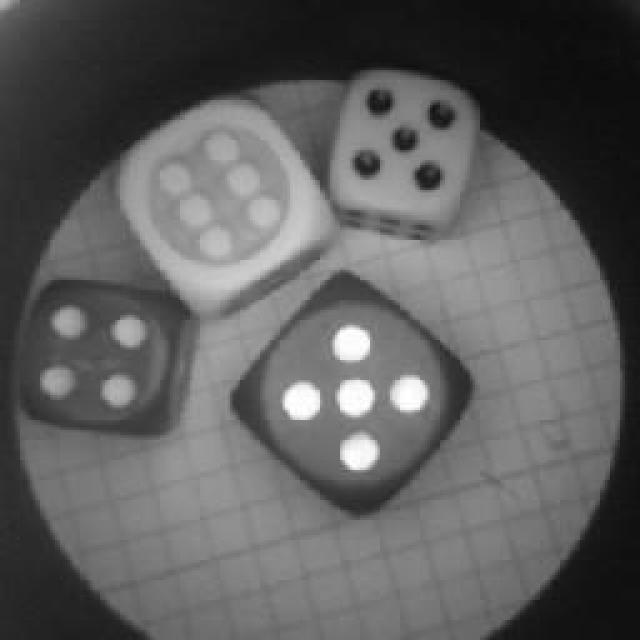dice_4: (13, 270, 195, 432)
dice_5: (242, 270, 470, 520), (328, 65, 472, 233)
dice_6: (118, 90, 320, 302)
